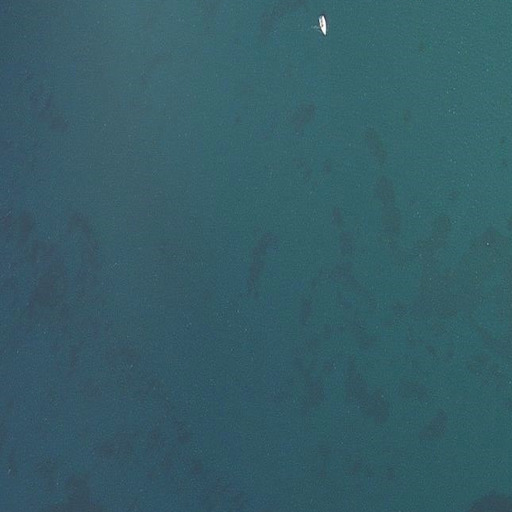ship: (317, 14, 329, 38)
